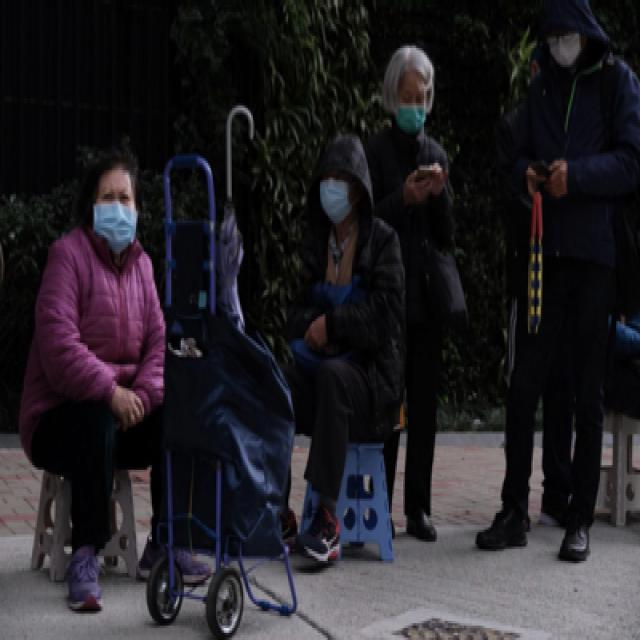mask: (91, 180, 142, 259), (318, 168, 354, 223), (546, 19, 584, 67), (397, 82, 429, 132)
